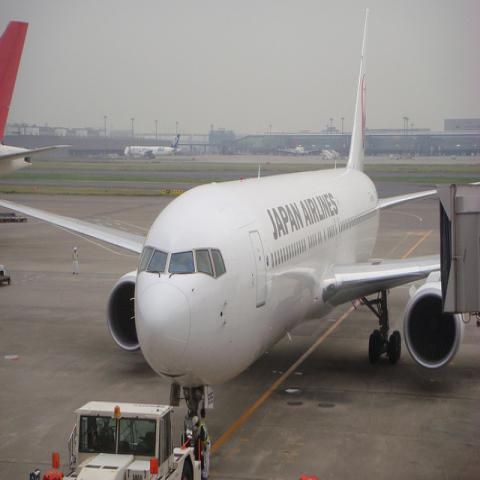truck: (66, 401, 202, 474)
